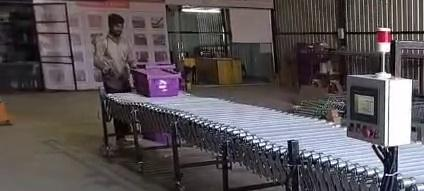box: (132, 65, 180, 96)
